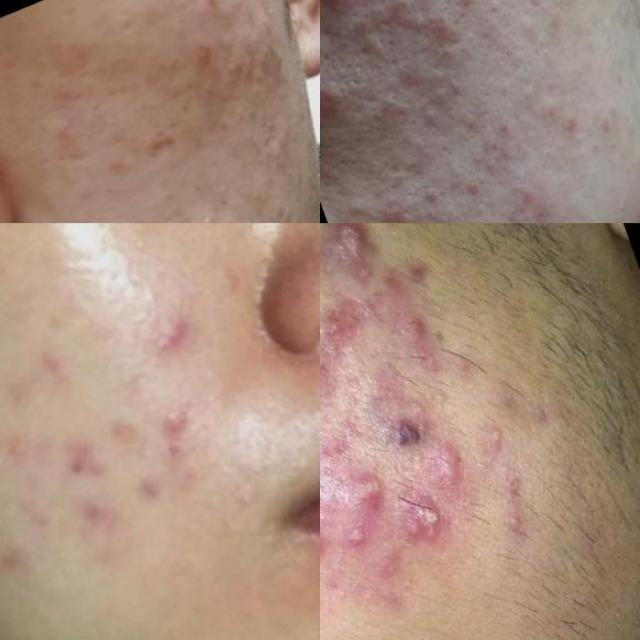8: (130, 297, 210, 368), (68, 477, 124, 539), (142, 396, 198, 450), (519, 0, 578, 48), (0, 414, 48, 469), (510, 176, 544, 212), (486, 110, 520, 144), (320, 72, 345, 115), (554, 108, 584, 140), (440, 0, 486, 19), (524, 196, 553, 223), (460, 172, 486, 199)
9: (472, 408, 532, 472), (330, 510, 378, 567)
blackheads: (390, 478, 474, 572), (320, 223, 400, 308), (364, 393, 439, 463), (127, 116, 194, 189), (325, 459, 386, 522)
dark spot: (412, 176, 442, 210), (364, 0, 396, 31), (390, 0, 416, 23), (412, 0, 444, 13)
